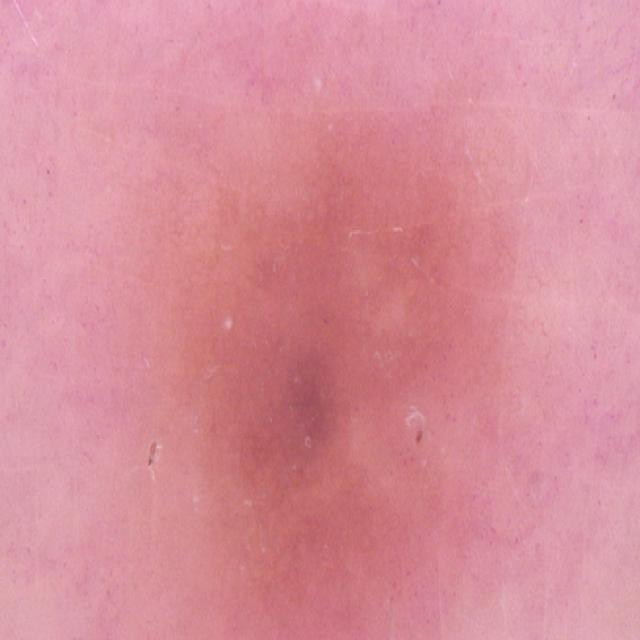Dermatofibroma: (135, 233, 494, 637)
